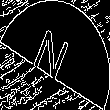N_SW: (33, 24, 77, 86)
